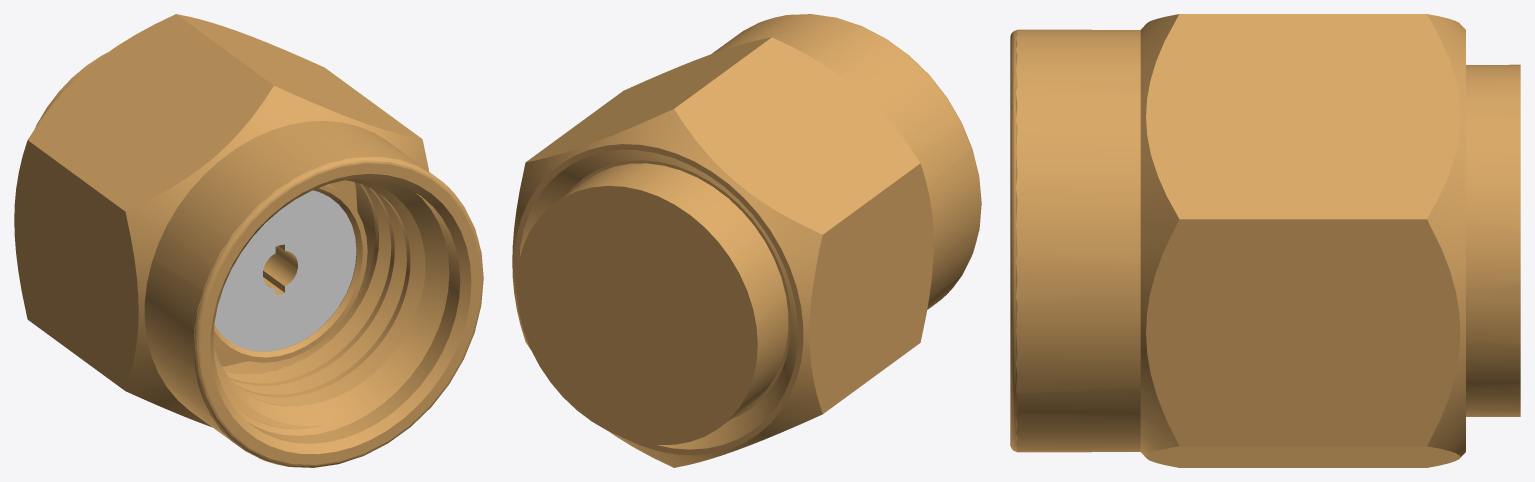
The model's file is rpsma_male.glb.
The picture shows the model from 3 angles, left to right: view 1: azimuth 30°, elevation 25°; view 2: azimuth 150°, elevation 25°; view 3: azimuth 270°, elevation 25°; orthographic projection. The views are drawn at different scales.
Visible parts, largest first — view 1: rpsma_male; view 2: rpsma_male; view 3: rpsma_male.
Part boxes in pixels (<box>): rpsma_male: <box>14,14,483,467</box>; rpsma_male: <box>512,14,981,467</box>; rpsma_male: <box>1010,14,1520,467</box>.
Size of the model in its own units: 0.8 by 0.9238 by 0.9408.
